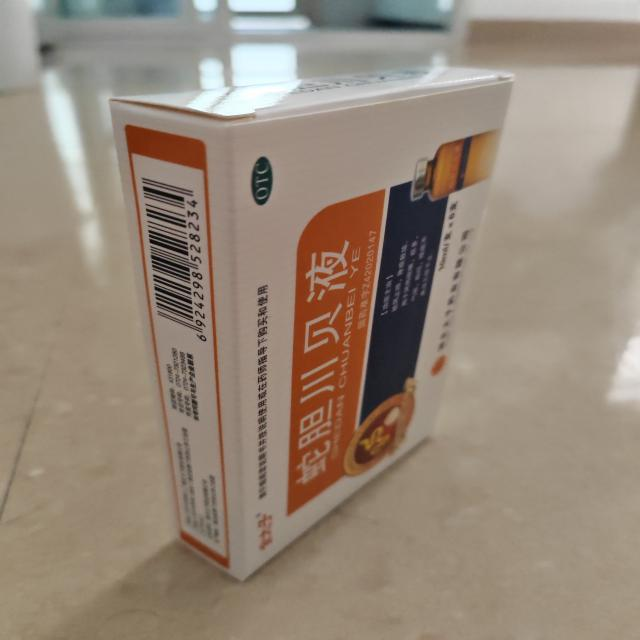box: (96, 61, 530, 587)
